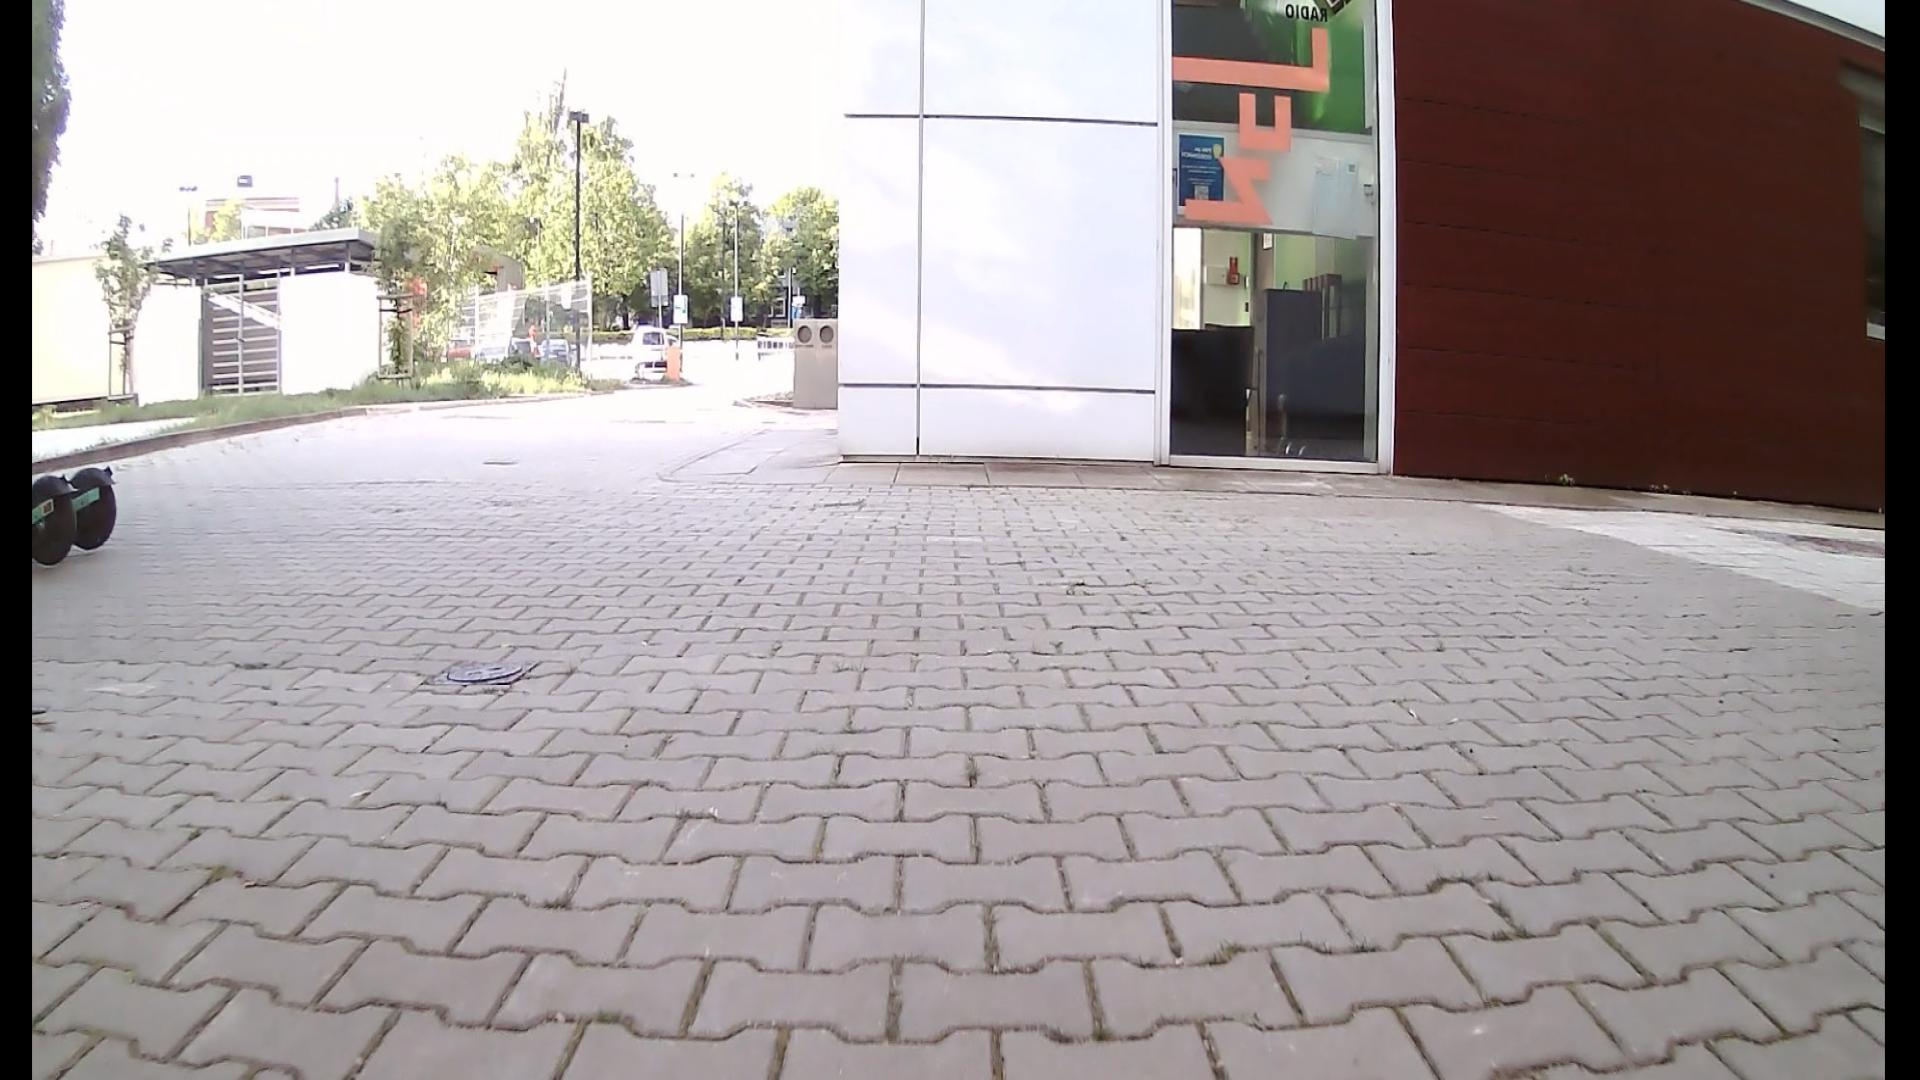wall: (843, 222, 1150, 448)
